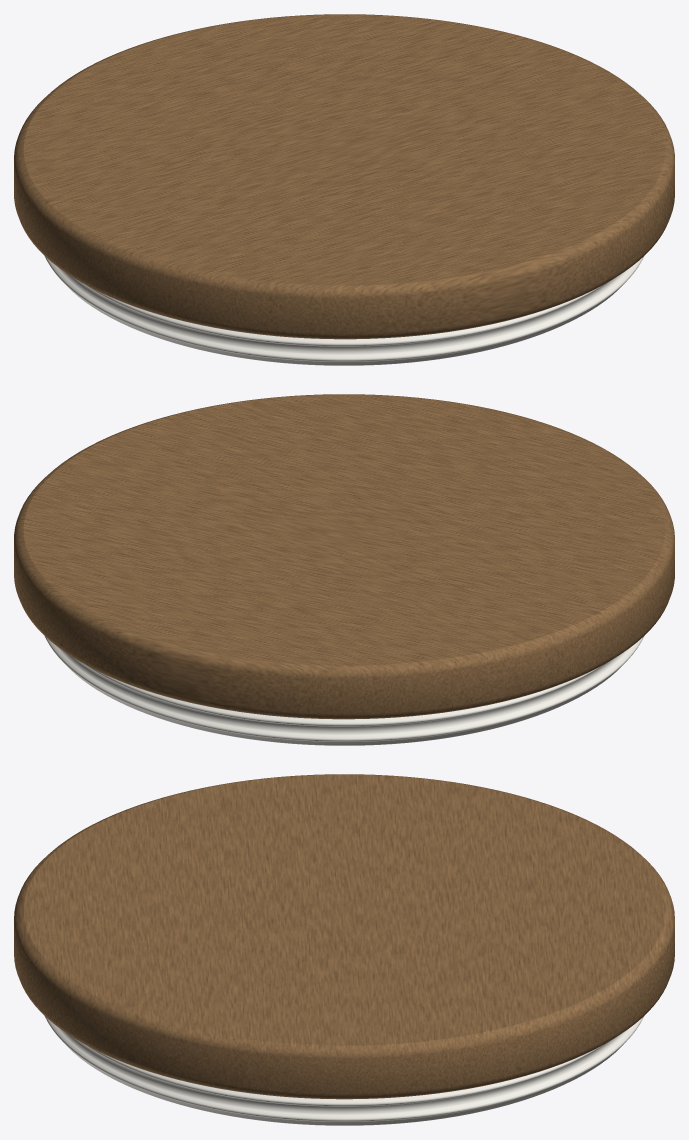
Rendered from candle-lid.glb.
The picture shows the model from 3 angles, top to bottom: view 1: azimuth 30°, elevation 25°; view 2: azimuth 150°, elevation 25°; view 3: azimuth 270°, elevation 25°; orthographic projection.
Parts seen in each view (by area): view 1: Lid_Wood, Lid_Seal; view 2: Lid_Wood, Lid_Seal; view 3: Lid_Wood, Lid_Seal.
Part boxes in pixels (x1=…): Lid_Wood: x1=14, y1=14, x2=674, y2=339; Lid_Seal: x1=44, y1=256, x2=644, y2=365; Lid_Wood: x1=14, y1=394, x2=674, y2=719; Lid_Seal: x1=44, y1=636, x2=644, y2=745; Lid_Wood: x1=14, y1=774, x2=674, y2=1099; Lid_Seal: x1=44, y1=1016, x2=644, y2=1125.
Bounding box in the file's own units: 0.102 × 0.016 × 0.102.
2 materials, 1 textured.
